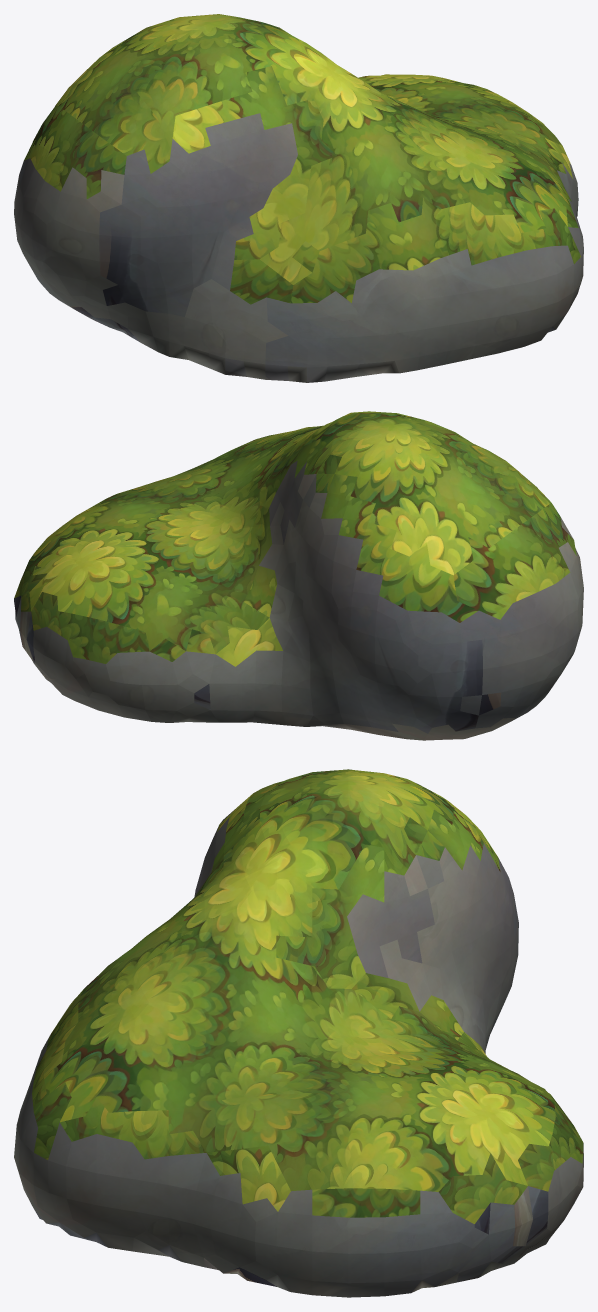
Rendered from mossy_stone1.glb.
3 views of the same model, one above another, from view 1: azimuth 30°, elevation 25°; view 2: azimuth 150°, elevation 25°; view 3: azimuth 270°, elevation 25° (orthographic). The views are drawn at different scales.
Visible parts, largest first — view 1: mossy_stone1_moss_LOD0, mossy_stone1_stone_LOD0; view 2: mossy_stone1_moss_LOD0, mossy_stone1_stone_LOD0; view 3: mossy_stone1_moss_LOD0, mossy_stone1_stone_LOD0.
Part boxes in pixels (x1,y1,x2,y2): mossy_stone1_moss_LOD0: (24, 14, 581, 304); mossy_stone1_stone_LOD0: (14, 113, 583, 382); mossy_stone1_moss_LOD0: (14, 411, 576, 666); mossy_stone1_stone_LOD0: (14, 460, 583, 740); mossy_stone1_moss_LOD0: (32, 769, 583, 1223); mossy_stone1_stone_LOD0: (14, 809, 583, 1297).
Size of what is drawn, in the model's own units: 0.7009 by 0.3504 by 0.5545.
2 materials, 2 textured.
